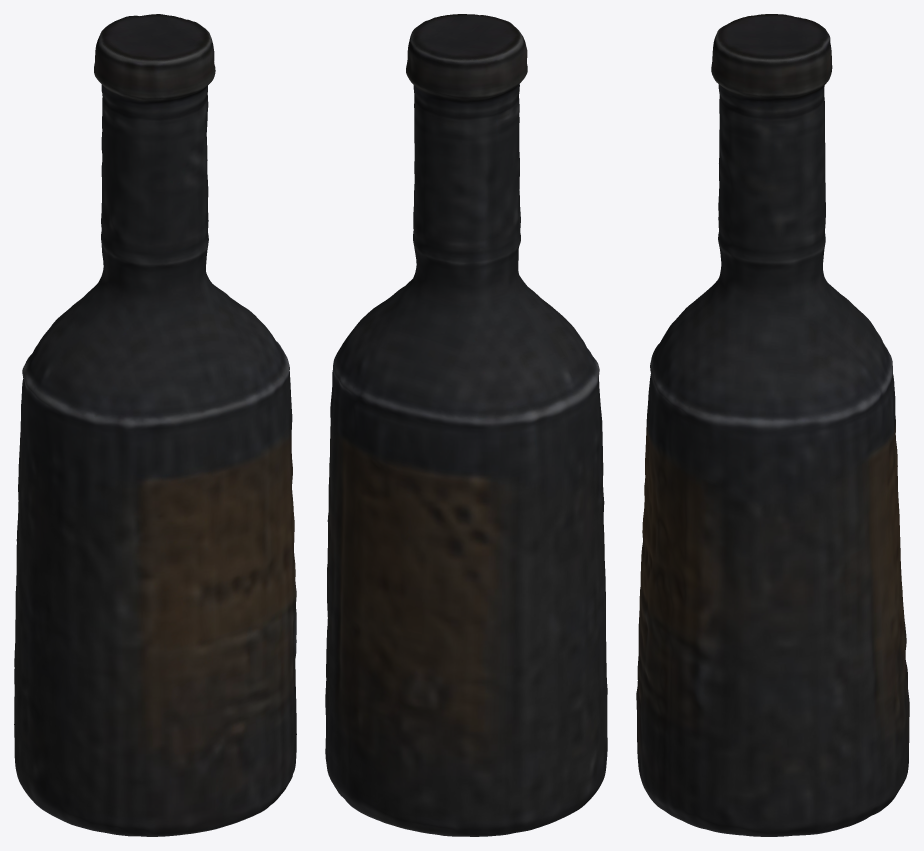
File: old_bottle.glb
3 renders of one model, left to right at view 1: azimuth 30°, elevation 25°; view 2: azimuth 150°, elevation 25°; view 3: azimuth 270°, elevation 25°, orthographic.
Visible parts, largest first — view 1: high_poly_0; view 2: high_poly_0; view 3: high_poly_0.
Boxes of the visible parts, bbox=[...] form: high_poly_0: bbox=[14, 14, 296, 836]; high_poly_0: bbox=[325, 14, 607, 836]; high_poly_0: bbox=[636, 14, 909, 836].
Size of the model in its own units: 0.3429 by 1 by 0.3305.
1 material, 1 textured.
